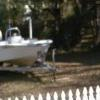Boat: (2, 21, 64, 76)
